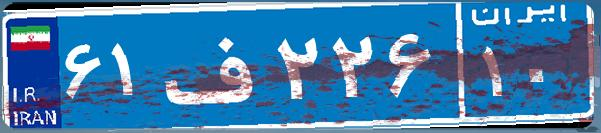0: (525, 38, 570, 115)
1: (475, 38, 525, 113), (110, 28, 158, 105)
2: (273, 28, 330, 110), (330, 28, 385, 110)
6: (385, 28, 445, 110), (57, 26, 110, 107)
ف: (158, 15, 273, 115)
